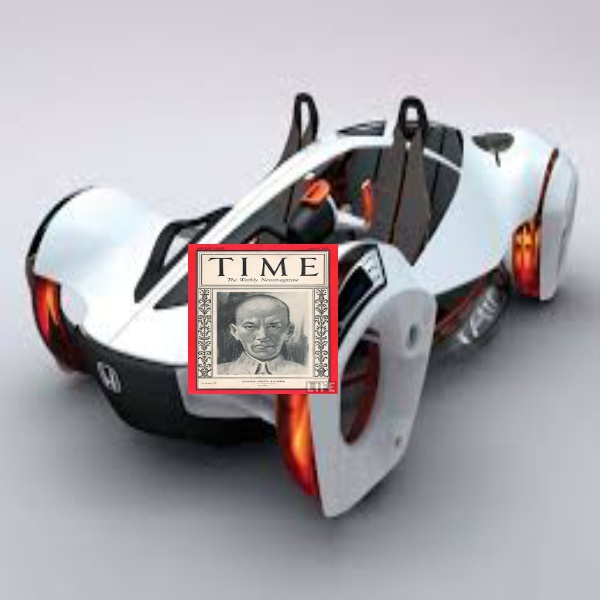time_cover: (182, 225, 341, 399)
